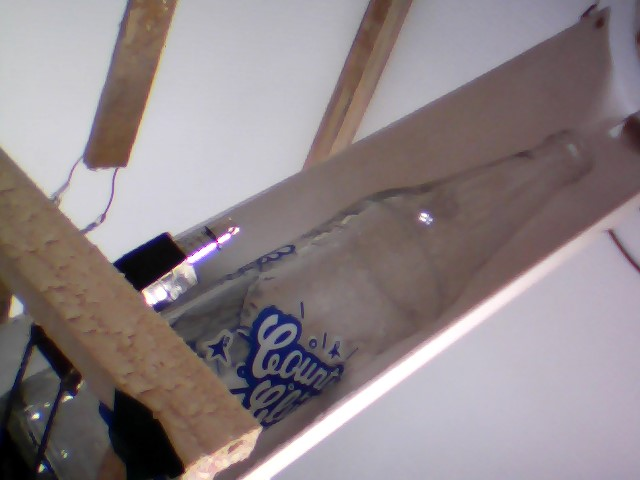vidrio: (189, 120, 599, 443)
